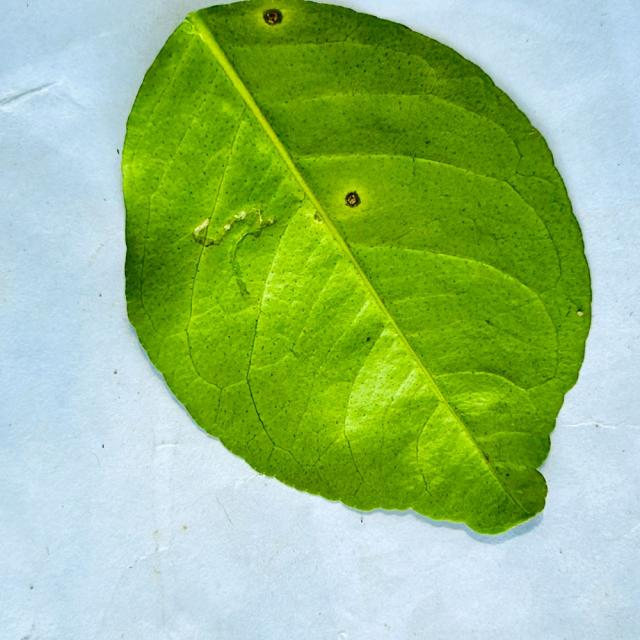Anthracnose: (338, 188, 368, 216), (261, 9, 287, 29)
Lemon: (118, 0, 594, 543)
